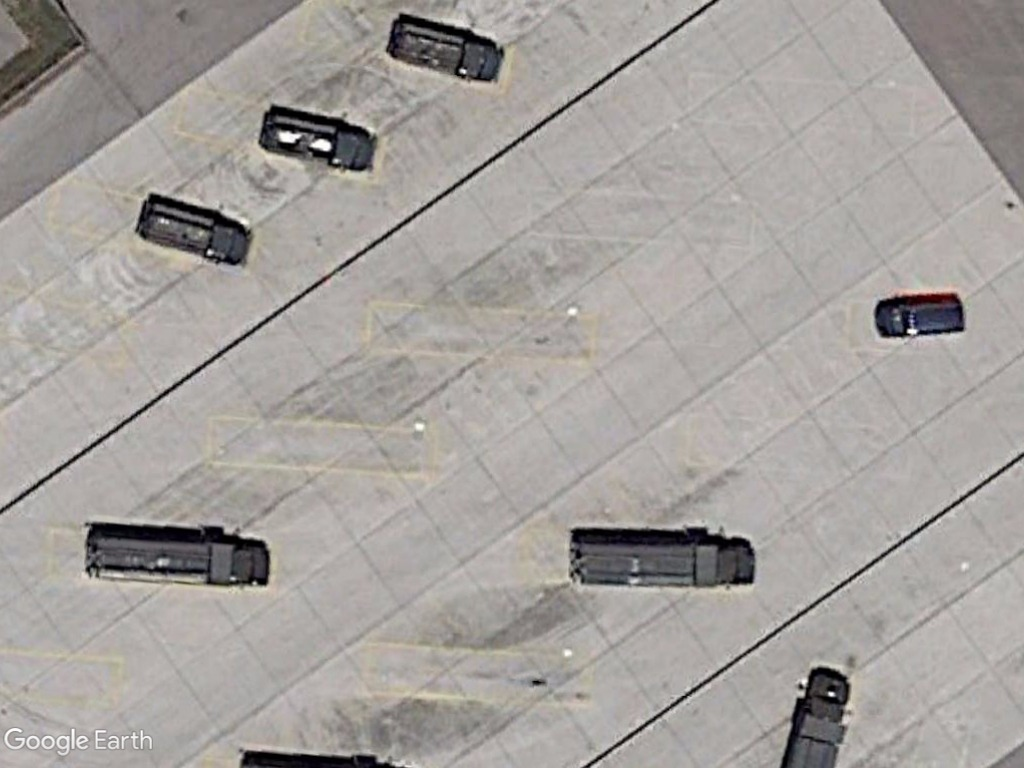truck: (77, 526, 277, 595), (567, 528, 762, 592), (134, 198, 255, 271), (258, 107, 384, 177), (385, 16, 508, 85)
van: (869, 293, 971, 342)
